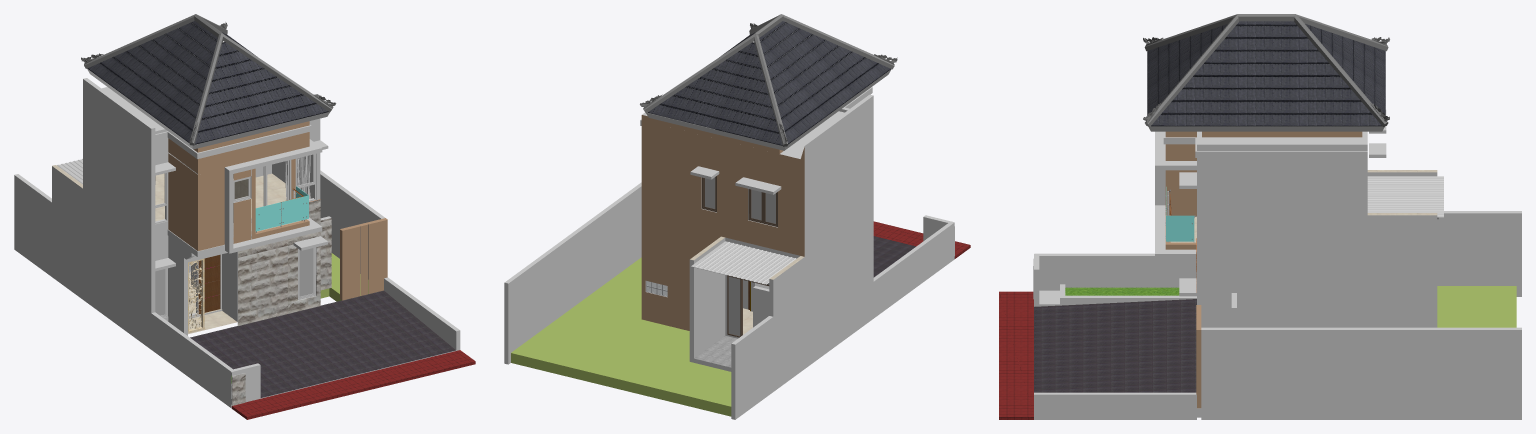
File: andrawina.glb
3 views of the same model, side by side, from view 1: azimuth 30°, elevation 25°; view 2: azimuth 150°, elevation 25°; view 3: azimuth 270°, elevation 25° (orthographic). The views are drawn at different scales.
Parts seen in each view (by area): view 1: Mesh1 Group1 Component_90_1 Model, Mesh1176 Group304 Component_90_1 Model, Mesh116 Intersection Group28 Component_90_1 Model, Mesh106 Group22 Component_90_1 Model, Mesh971 Group227 Component_90_1 Model, Mesh1168 Group300 Component_90_1 Model, Mesh3 Group3 Group2 Component_90_1 Model, Mesh134 Group29 Component_90_1 Model, Mesh29 Group9 Group7 Component_90_1 Model, Mesh28427 Group315 Group314 Component_5_1 Component_90_1 Mod, Mesh27 Group8 Group7 Component_90_1 Model, Mesh32 Group11 Group10 Component_90_1 Model (+3 smaller); view 2: Mesh1 Group1 Component_90_1 Model, Mesh106 Group22 Component_90_1 Model, Mesh1086 Group270 Component_90_1 Model, Mesh116 Intersection Group28 Component_90_1 Model, Mesh3 Group3 Group2 Component_90_1 Model, Mesh27 Group8 Group7 Component_90_1 Model, Mesh134 Group29 Component_90_1 Model, Mesh975 Group231 Group230 Group229 Component_90_1 Model, Mesh1176 Group304 Component_90_1 Model, Mesh1168 Group300 Component_90_1 Model; view 3: Mesh1 Group1 Component_90_1 Model, Mesh116 Intersection Group28 Component_90_1 Model, Mesh1176 Group304 Component_90_1 Model, Mesh1168 Group300 Component_90_1 Model, Mesh106 Group22 Component_90_1 Model, Mesh3 Group3 Group2 Component_90_1 Model, Mesh1086 Group270 Component_90_1 Model, Mesh862 Group198 Component_90_1 Model, Mesh28427 Group315 Group314 Component_5_1 Component_90_1 Mod, Mesh134 Group29 Component_90_1 Model.
Part boxes in pixels (x1,y1,x2,y2): Mesh1 Group1 Component_90_1 Model: (14, 23, 460, 407); Mesh1176 Group304 Component_90_1 Model: (190, 290, 456, 398); Mesh116 Intersection Group28 Component_90_1 Model: (87, 21, 328, 144); Mesh106 Group22 Component_90_1 Model: (168, 121, 387, 300); Mesh971 Group227 Component_90_1 Model: (232, 199, 331, 405); Mesh1168 Group300 Component_90_1 Model: (231, 350, 475, 419); Mesh3 Group3 Group2 Component_90_1 Model: (84, 14, 332, 145); Mesh134 Group29 Component_90_1 Model: (52, 165, 301, 334); Mesh29 Group9 Group7 Component_90_1 Model: (155, 154, 315, 317); Mesh28427 Group315 Group314 Component_5_1 Component_90_1 Mod: (255, 186, 308, 231); Mesh27 Group8 Group7 Component_90_1 Model: (155, 248, 313, 315); Mesh32 Group11 Group10 Component_90_1 Model: (198, 255, 220, 314); Mesh1 Group1 Component_90_1 Model: (504, 23, 954, 419); Mesh106 Group22 Component_90_1 Model: (641, 115, 804, 330); Mesh1086 Group270 Component_90_1 Model: (511, 257, 731, 416); Mesh116 Intersection Group28 Component_90_1 Model: (648, 21, 890, 145); Mesh3 Group3 Group2 Component_90_1 Model: (643, 14, 894, 284); Mesh27 Group8 Group7 Component_90_1 Model: (705, 177, 775, 336); Mesh134 Group29 Component_90_1 Model: (690, 236, 803, 367); Mesh975 Group231 Group230 Group229 Component_90_1 Model: (702, 176, 777, 337); Mesh1176 Group304 Component_90_1 Model: (873, 236, 915, 277); Mesh1168 Group300 Component_90_1 Model: (873, 221, 970, 258); Mesh1 Group1 Component_90_1 Model: (1033, 110, 1521, 419); Mesh116 Intersection Group28 Component_90_1 Model: (1147, 21, 1385, 126); Mesh1176 Group304 Component_90_1 Model: (1034, 299, 1201, 408); Mesh1168 Group300 Component_90_1 Model: (999, 291, 1033, 419); Mesh106 Group22 Component_90_1 Model: (1165, 131, 1362, 408); Mesh3 Group3 Group2 Component_90_1 Model: (1144, 14, 1438, 219); Mesh1086 Group270 Component_90_1 Model: (1437, 286, 1516, 327); Mesh862 Group198 Component_90_1 Model: (1065, 287, 1179, 295); Mesh28427 Group315 Group314 Component_5_1 Component_90_1 Mod: (1166, 187, 1194, 241); Mesh134 Group29 Component_90_1 Model: (1170, 170, 1437, 242).
Size of the model in its own units: 8.5 by 10.29 by 15.
38 materials, 13 textured.
